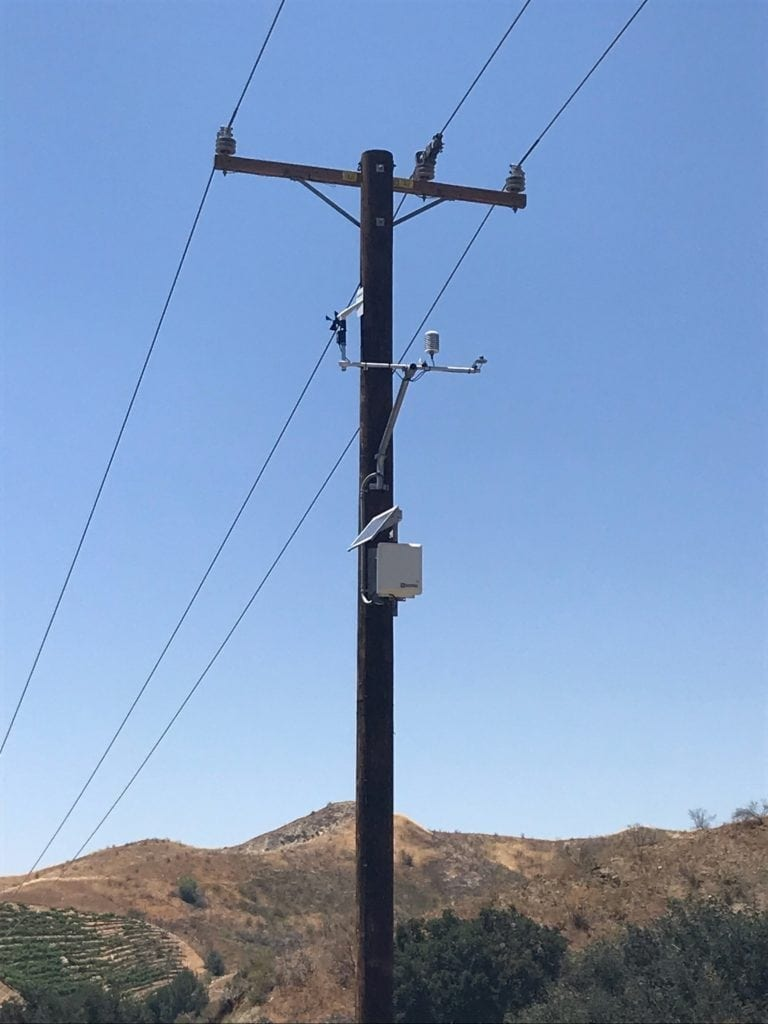utility_pole: (193, 96, 541, 495)
